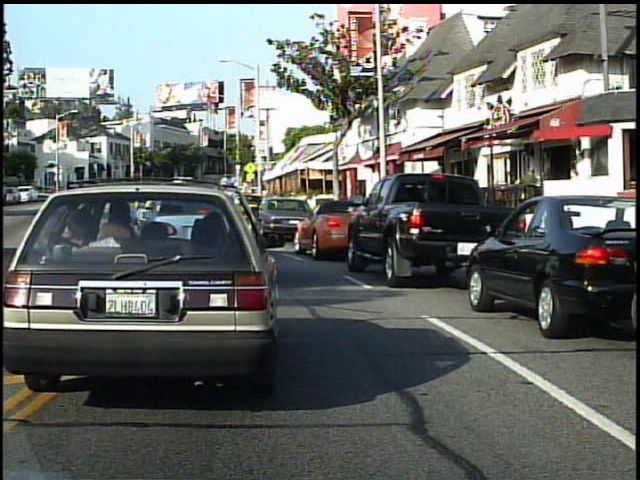person: (518, 160, 543, 221)
